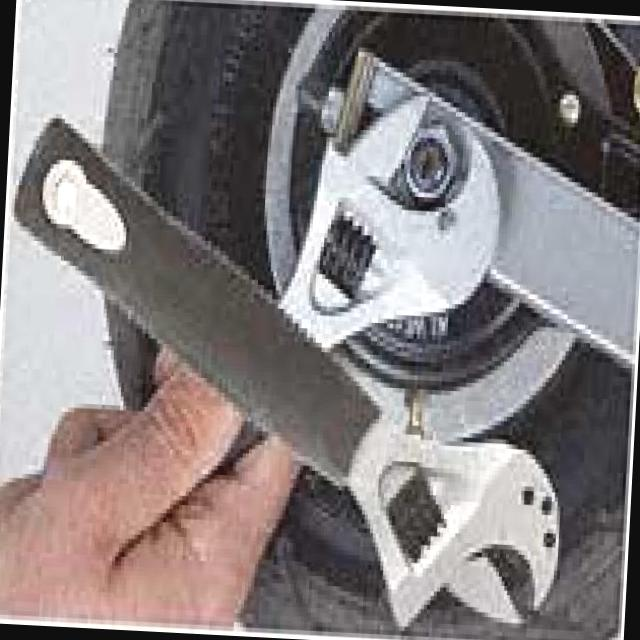wrench: (17, 122, 559, 625)
